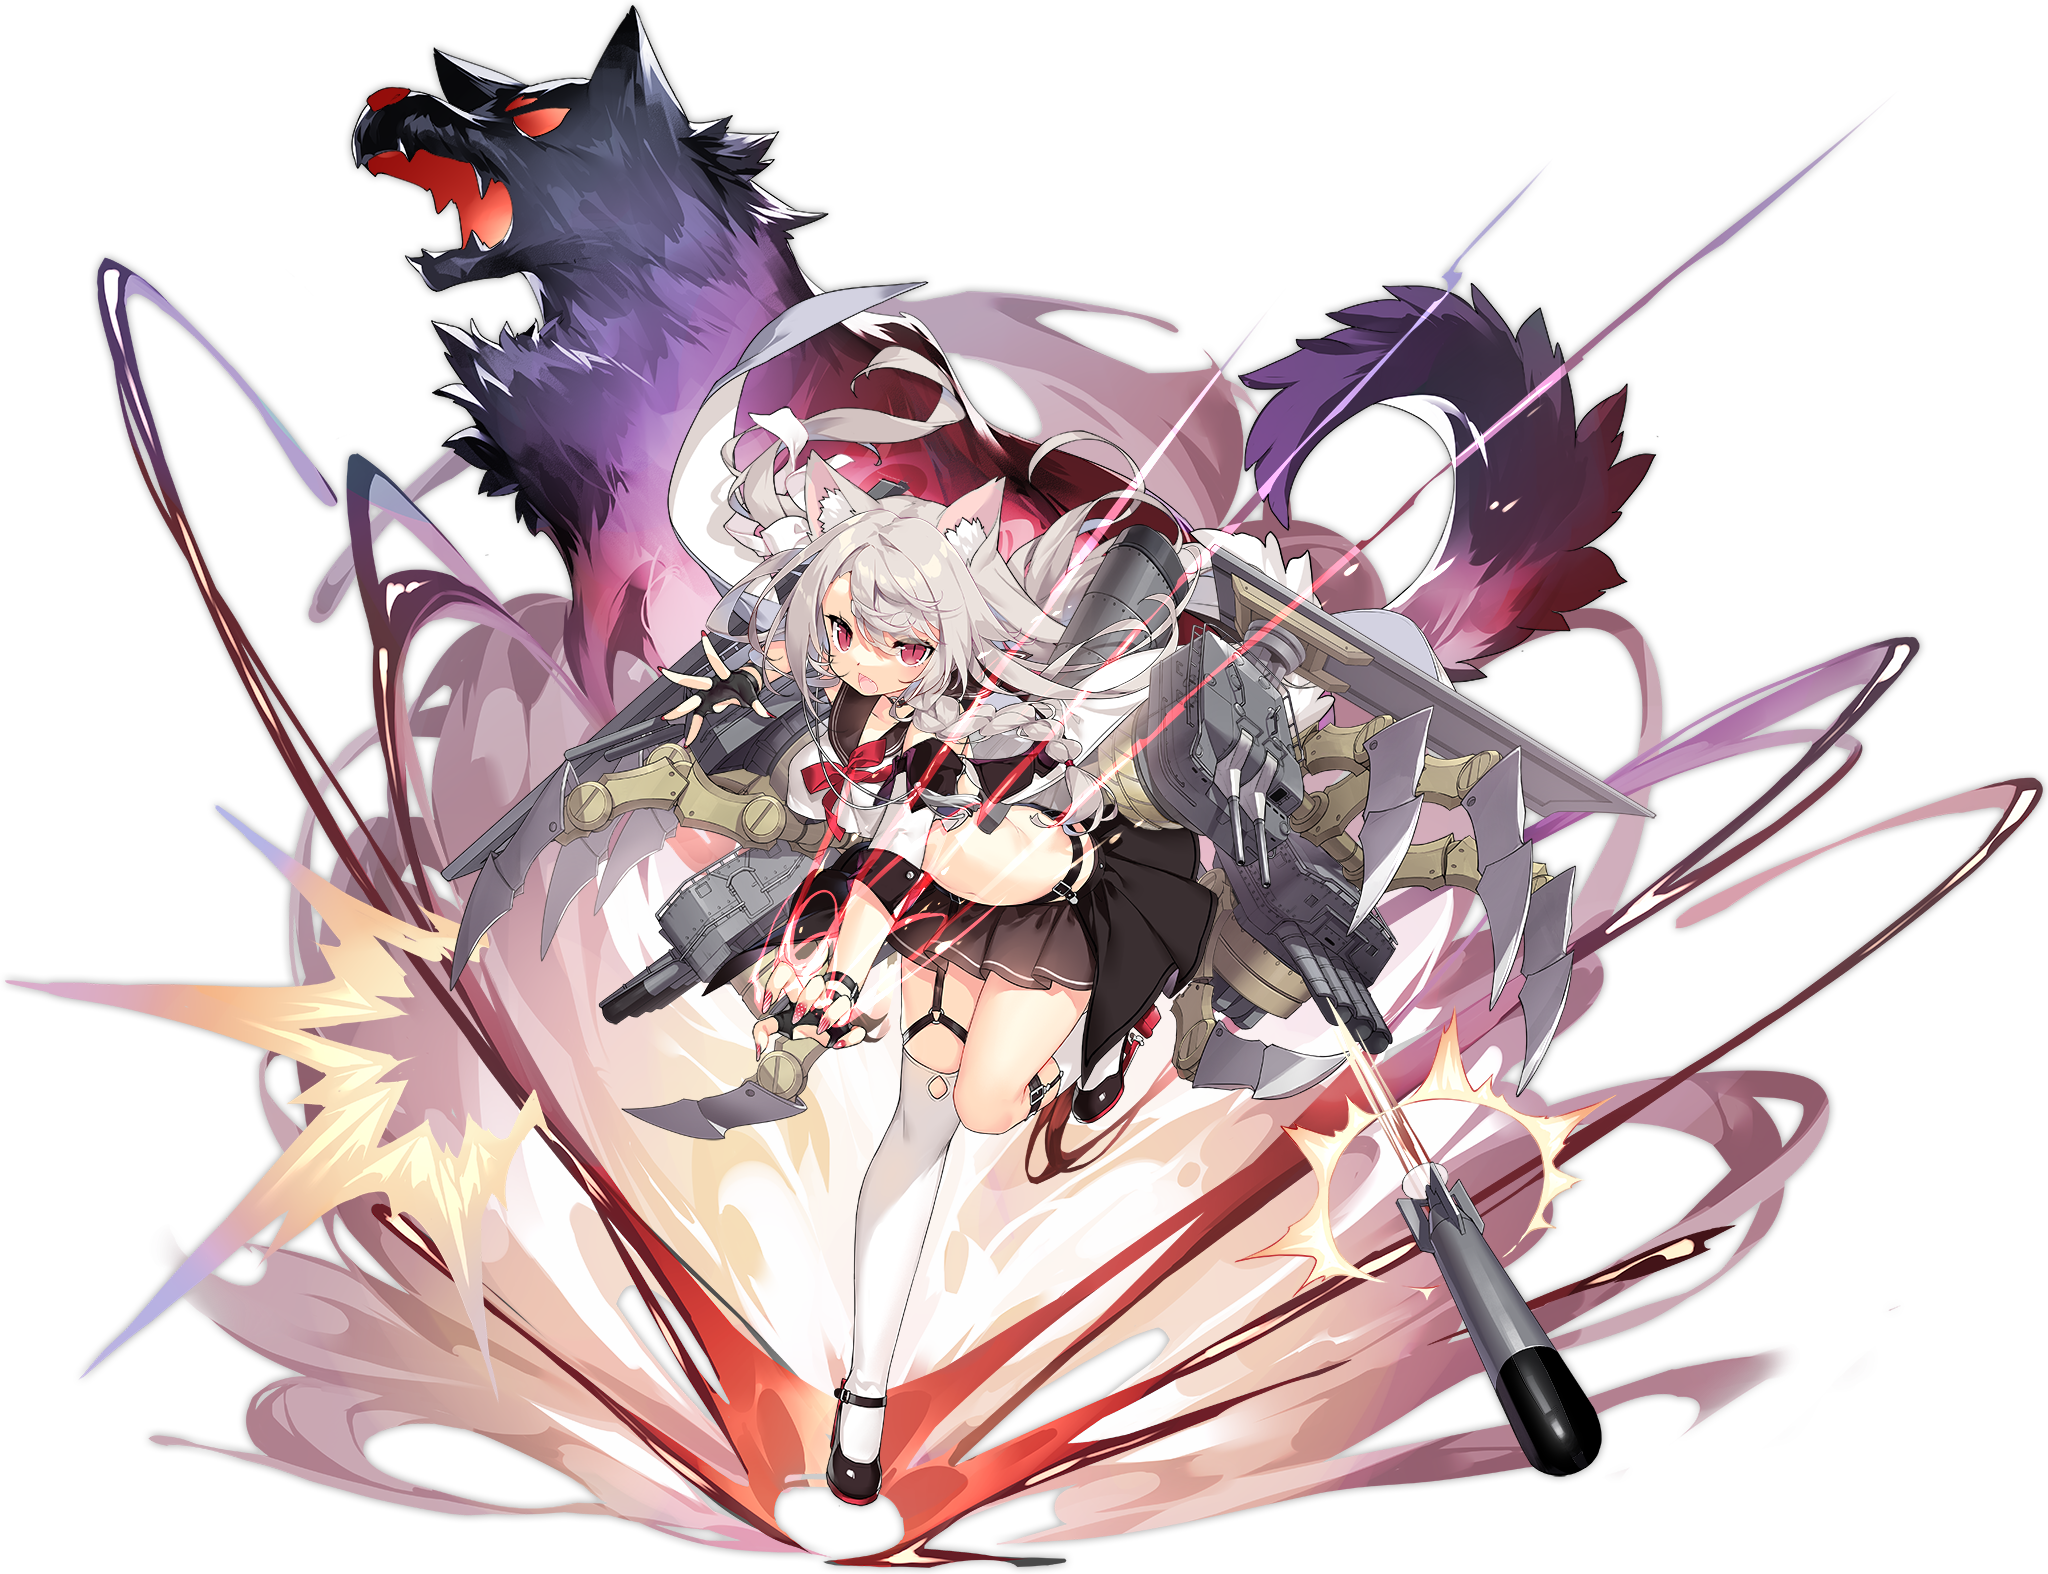person: (528, 485, 1242, 1465)
